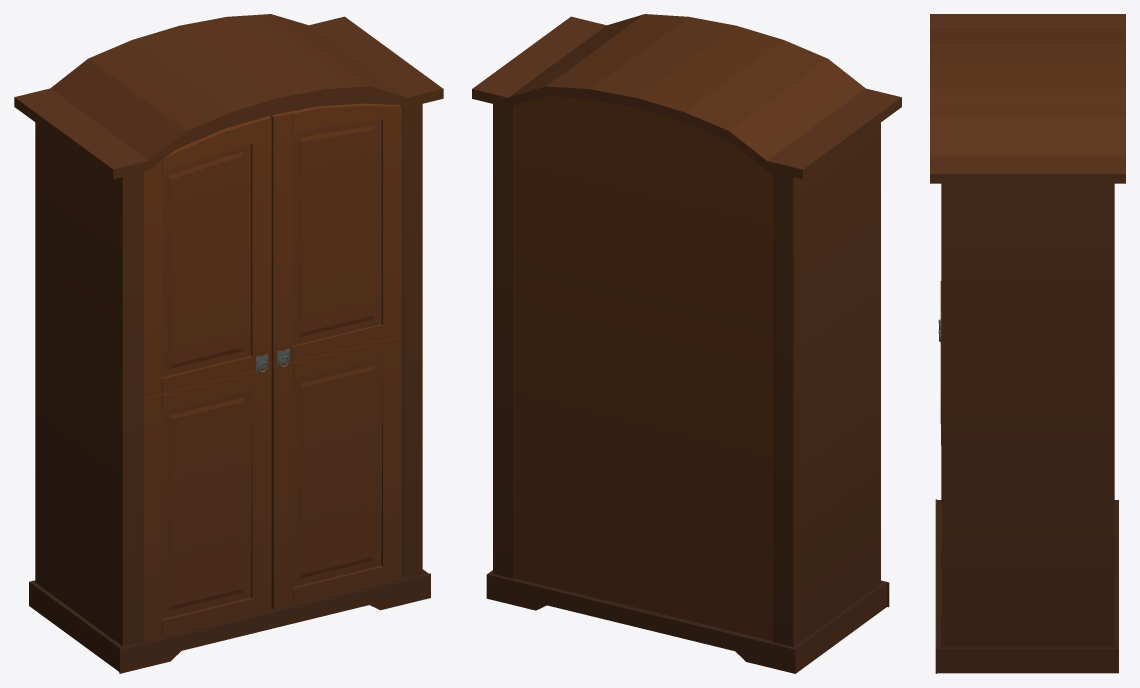
Rendered from Prop_Wardrobe_02.obj.
3 renders of one model, left to right at view 1: azimuth 30°, elevation 25°; view 2: azimuth 150°, elevation 25°; view 3: azimuth 270°, elevation 25°, orthographic.
Parts seen in each view (by area): view 1: Prop_Wardrobe_02, Prop_Wardrobe_Right_02, Prop_Wardrobe_Left_02; view 2: Prop_Wardrobe_02; view 3: Prop_Wardrobe_02, Prop_Wardrobe_Right_02.
Part boxes in pixels (x1,y1,x2,y2): Prop_Wardrobe_02: (14, 14, 443, 673); Prop_Wardrobe_Right_02: (271, 103, 401, 609); Prop_Wardrobe_Left_02: (143, 116, 271, 641); Prop_Wardrobe_02: (472, 14, 901, 673); Prop_Wardrobe_02: (930, 14, 1125, 673); Prop_Wardrobe_Right_02: (938, 322, 941, 627).
Size of the model in its own units: 1.15 by 1.8 by 0.5973.
Materials: 1 (1 with a texture image).
